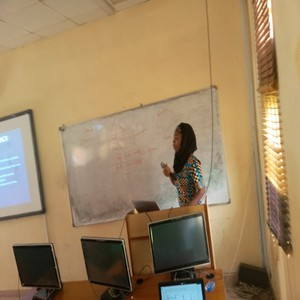Fulokoja_female_student: (165, 125, 211, 209)
